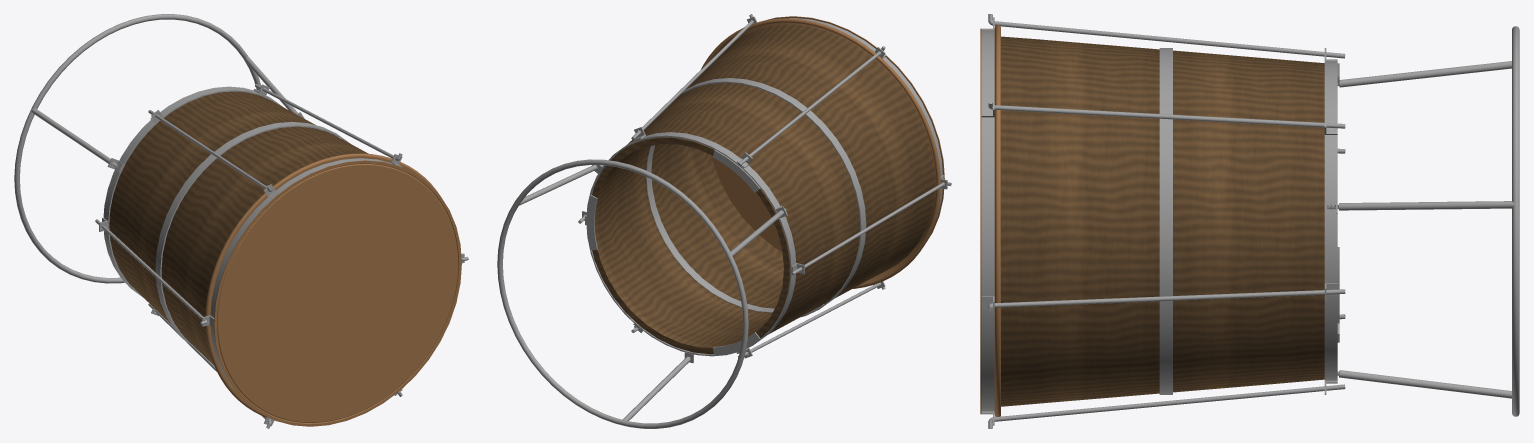
File: engome.glb
3 views of the same model, side by side, from view 1: azimuth 30°, elevation 25°; view 2: azimuth 150°, elevation 25°; view 3: azimuth 270°, elevation 25° (orthographic). The views are drawn at different scales.
Visible parts, largest first — view 1: couro, bojo, base_circular, arquilha_externa, aro_baixo, aro_cima, esticador_5, pe_1, esticador_1, esticador_6; view 2: bojo, couro, base_circular, aro_baixo, arquilha_externa, arquilha_interna, aro_cima, esticador_6, esticador_1, esticador_5, esticador_2, pe_2 (+1 smaller); view 3: bojo, aro_cima, arquilha_externa, aro_baixo, couro, base_circular, esticador_3, esticador_6, esticador_5, esticador_4, pe_3, pe_2 (+1 smaller).
Boxes of the visible parts, x1=… form: couro: x1=205, y1=153, x2=461, y2=426; bojo: x1=109, y1=91, x2=368, y2=364; base_circular: x1=14, y1=14, x2=261, y2=283; arquilha_externa: x1=155, y1=121, x2=349, y2=349; aro_baixo: x1=103, y1=86, x2=283, y2=297; aro_cima: x1=210, y1=158, x2=392, y2=388; esticador_5: x1=255, y1=84, x2=402, y2=160; pe_1: x1=31, y1=109, x2=118, y2=167; esticador_1: x1=95, y1=219, x2=207, y2=325; esticador_6: x1=148, y1=110, x2=271, y2=191; bojo: x1=592, y1=24, x2=935, y2=354; couro: x1=701, y1=16, x2=944, y2=288; base_circular: x1=497, y1=159, x2=748, y2=428; aro_baixo: x1=586, y1=132, x2=796, y2=356; arquilha_externa: x1=681, y1=78, x2=866, y2=317; arquilha_interna: x1=646, y1=145, x2=774, y2=312; aro_cima: x1=789, y1=18, x2=942, y2=220; esticador_6: x1=738, y1=46, x2=885, y2=165; esticador_1: x1=791, y1=182, x2=951, y2=275; esticador_5: x1=631, y1=14, x2=753, y2=140; esticador_2: x1=738, y1=282, x2=885, y2=357; pe_2: x1=622, y1=356, x2=690, y2=420; bojo: x1=1001, y1=36, x2=1324, y2=406; aro_cima: x1=981, y1=30, x2=994, y2=411; arquilha_externa: x1=1159, y1=48, x2=1172, y2=394; aro_baixo: x1=1324, y1=61, x2=1339, y2=380; couro: x1=980, y1=25, x2=1000, y2=416; base_circular: x1=1512, y1=26, x2=1519, y2=416; esticador_3: x1=988, y1=384, x2=1345, y2=428; esticador_6: x1=988, y1=14, x2=1345, y2=58; esticador_5: x1=988, y1=100, x2=1345, y2=128; esticador_4: x1=988, y1=289, x2=1345, y2=311; pe_3: x1=1327, y1=201, x2=1515, y2=210; pe_2: x1=1337, y1=370, x2=1511, y2=398.
Size of the model in its own units: 702 by 663 by 908.
Materials: 3 (1 with a texture image).
